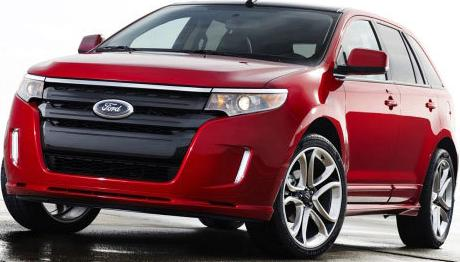front_view: (16, 62, 301, 220)
headlight: (190, 80, 302, 126)
side_glass: (333, 10, 423, 89)
